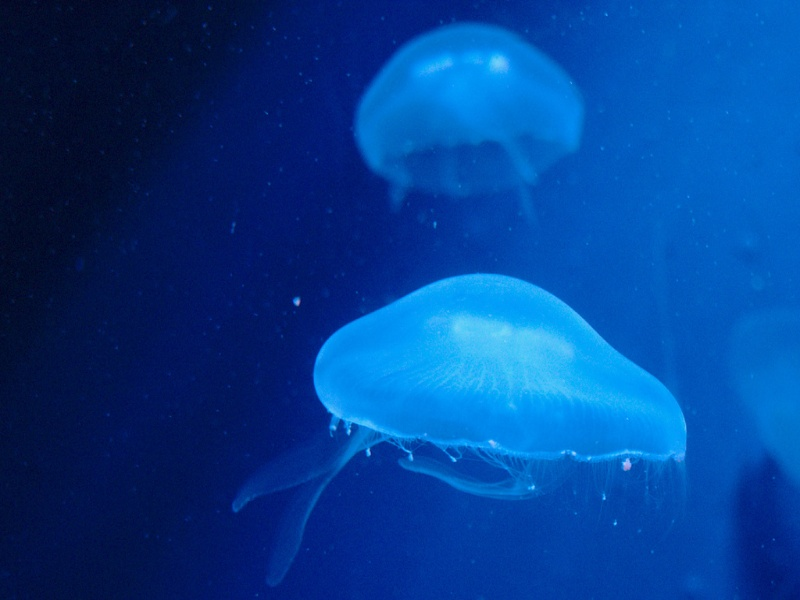Jellyfish: (227, 270, 689, 589), (352, 26, 608, 236)
